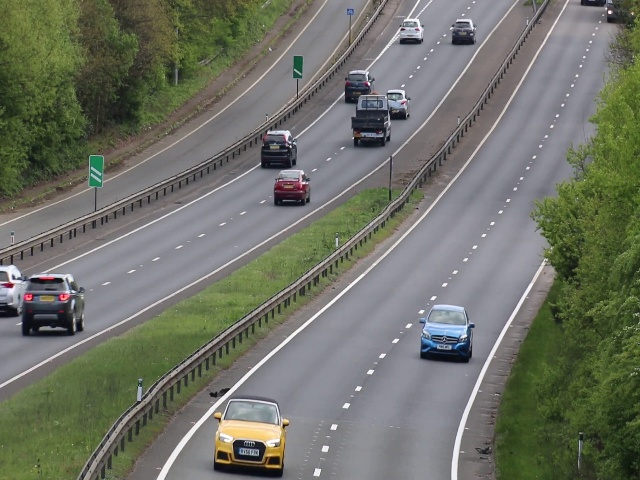car: (214, 398, 286, 473), (22, 274, 87, 339), (418, 303, 473, 362), (352, 98, 392, 144), (258, 129, 299, 167), (273, 167, 312, 206), (1, 263, 28, 316), (345, 70, 376, 99), (400, 16, 425, 44), (452, 15, 475, 44), (391, 89, 408, 120)
